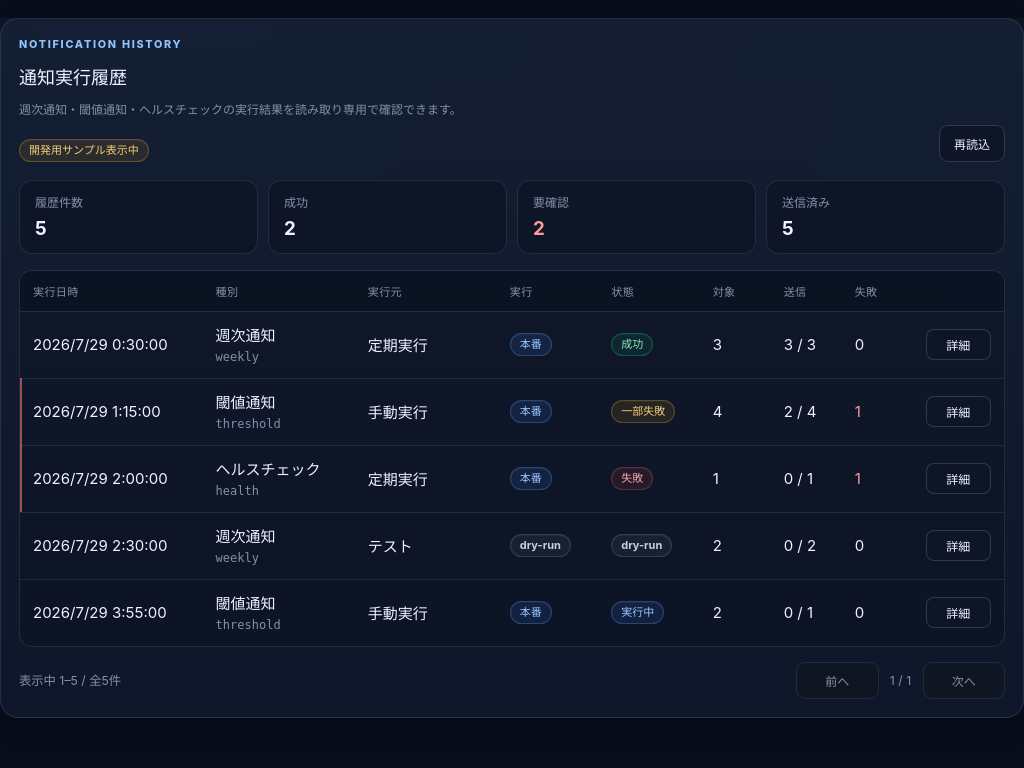
NotificationHistory › 開発用サンプルを有効にするとAPIを使わず一覧と詳細を表示する
Expected: the text "開発用サンプル表示中" is shown, [19,139,149,162]
Expected: the text "一部失敗" is shown, [611,400,675,423]
Click the button "詳細" in the row of "2026/7/29 1:15:00".
click(958, 412)  # box [926,396,991,427]
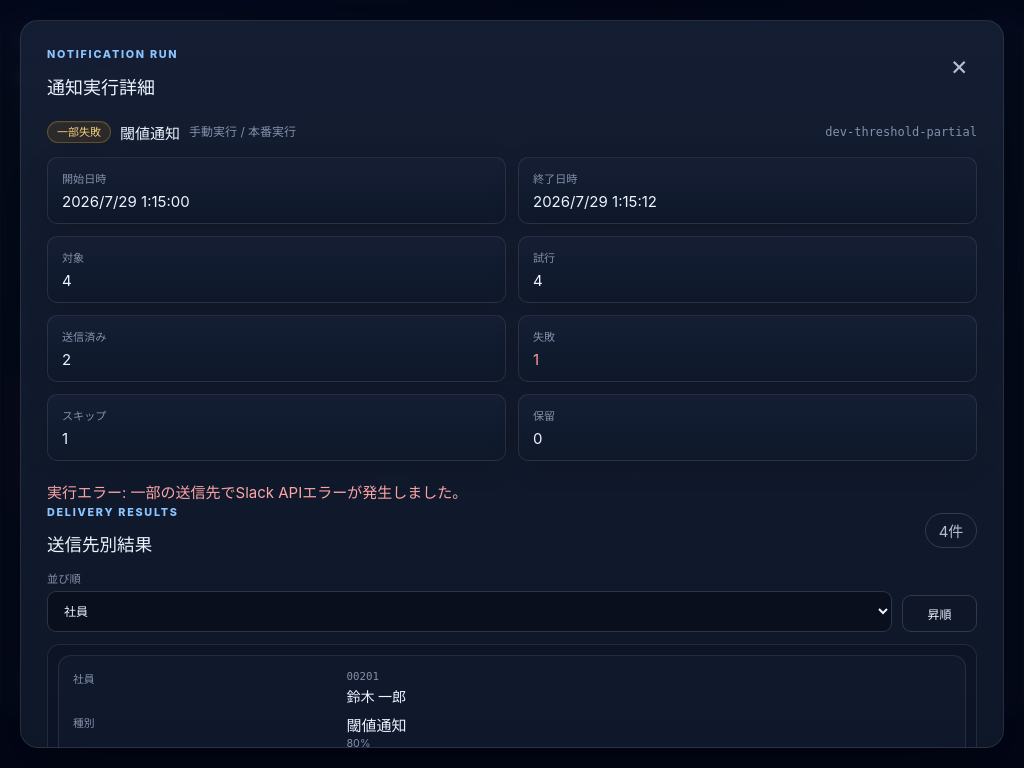
Expected: the text "保留" is shown, [533,410,555,424]
